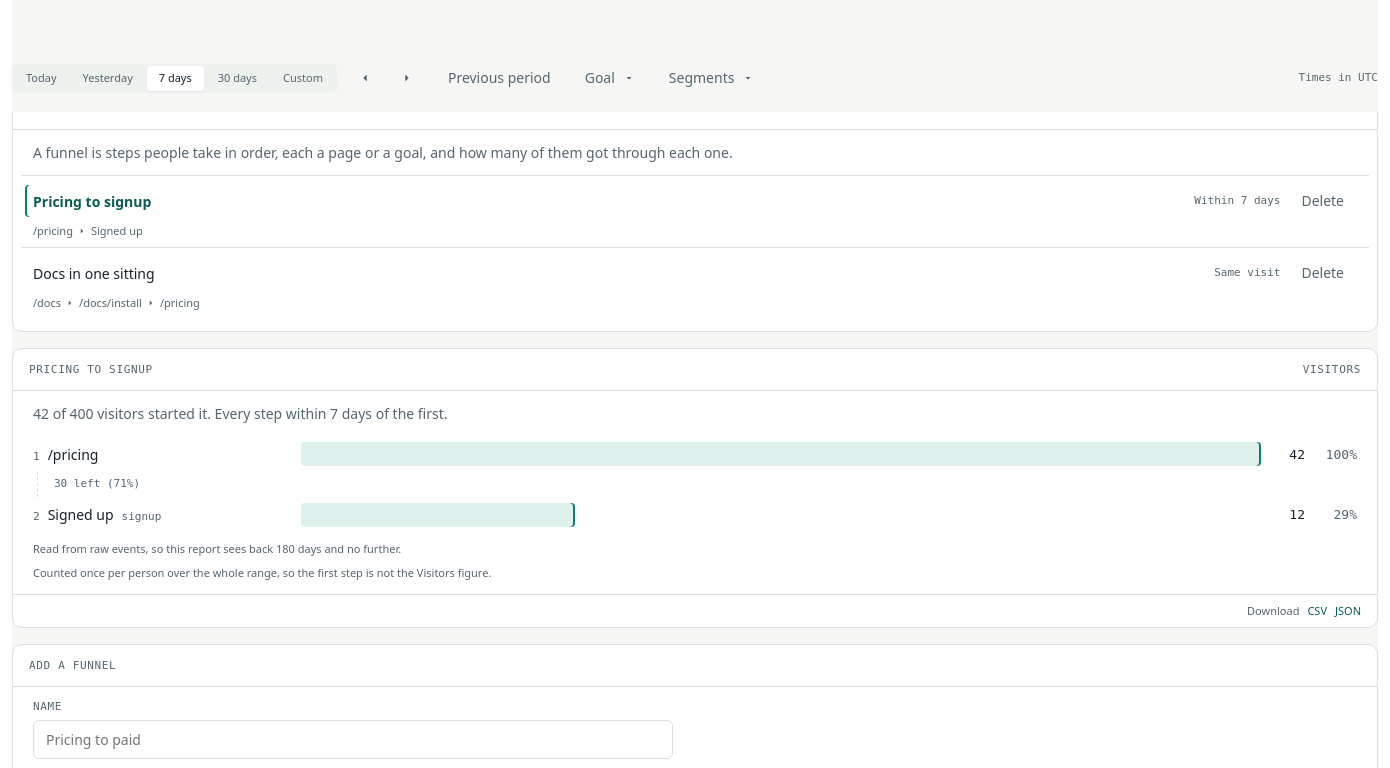
Scenario: Funnels, deleting one › asks first, and says that nothing is lost
The width and height of the screenshot is (1390, 768).
What coordinates should you click on to do the following:
click the 1st button "Delete"
I would click on:
 (1323, 201)
Its box is [1288,184,1357,219].
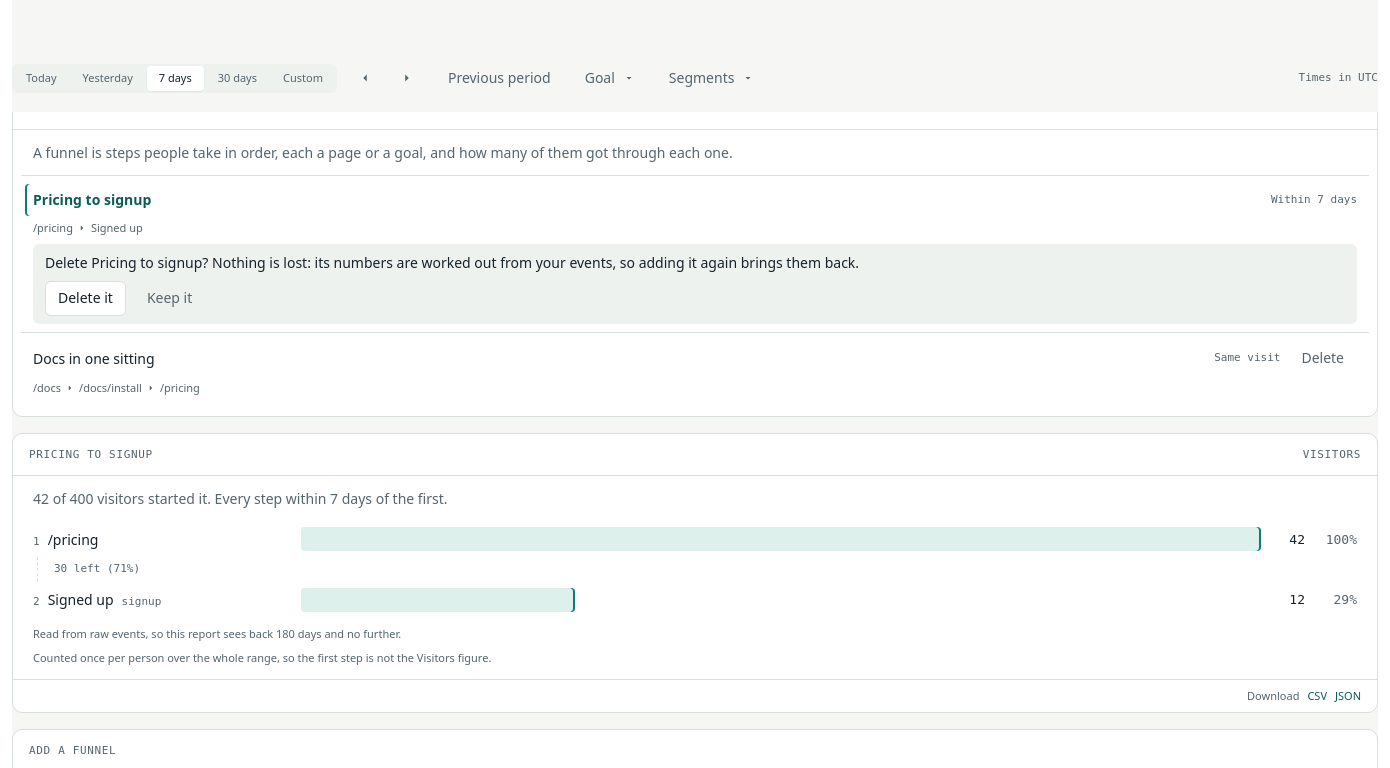
Result: the text "Delete Pricing to signup? Nothing is lost: its numbers are worked out from your events, so adding it again brings them b" is shown at [45,253,859,272]
What coordinates should you click on to do the following:
click the button "Keep it"
I would click on:
 (170, 299)
Its box is [134,281,205,316].
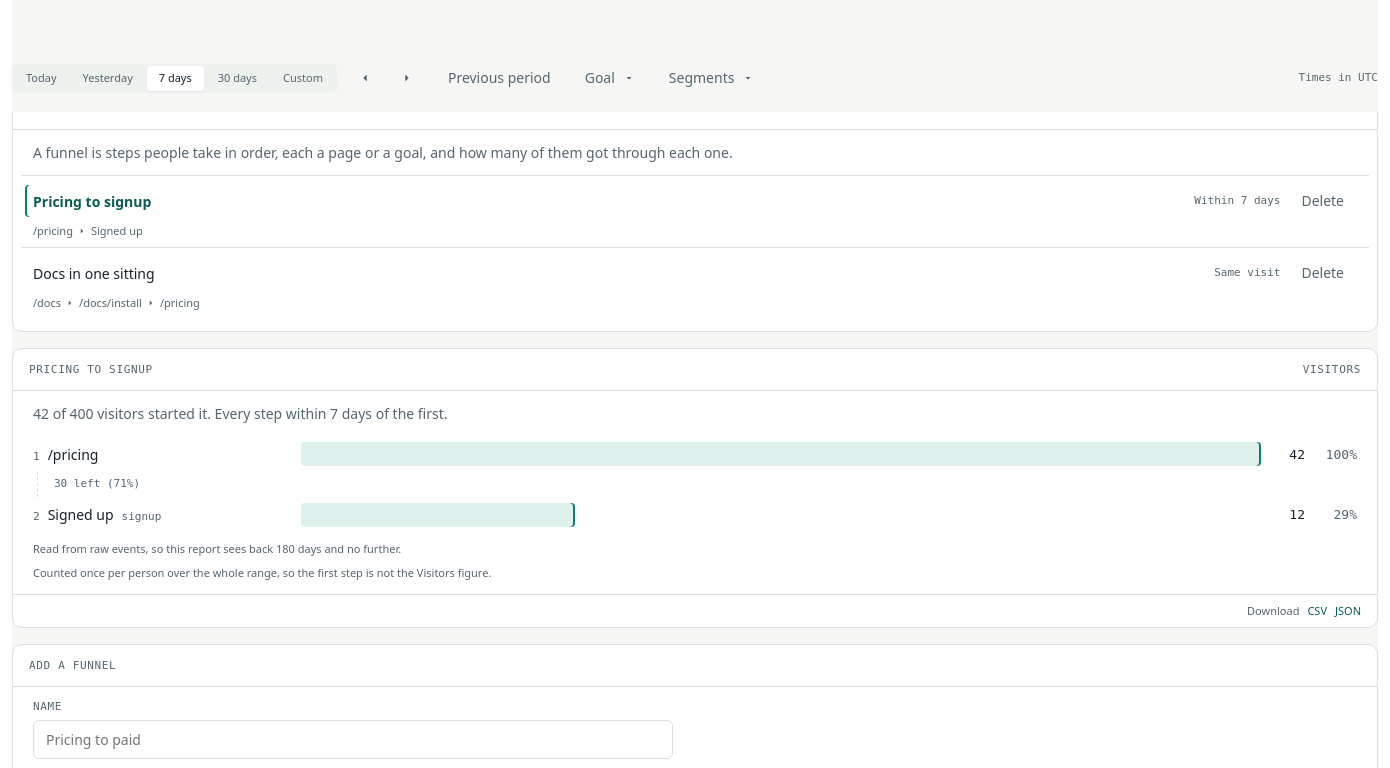
Result: the text "Nothing is lost" is gone
